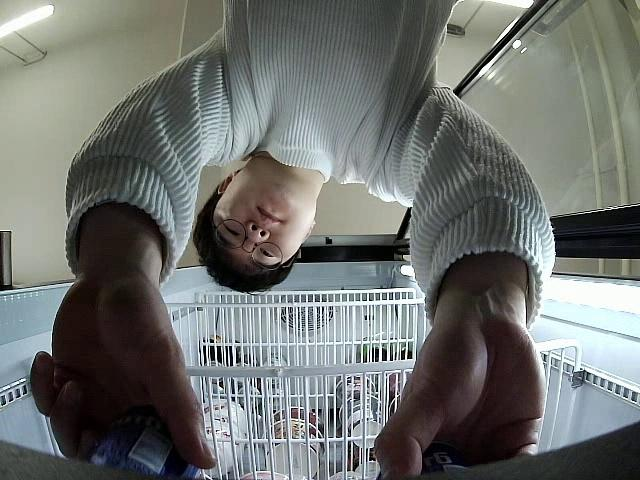00_hand: (30, 256, 215, 469), (374, 304, 548, 479)
16_hot6: (80, 399, 202, 480), (378, 441, 476, 480)
